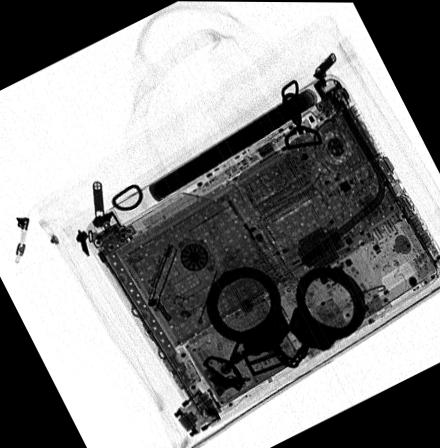HandCuffs: (199, 261, 369, 399)
